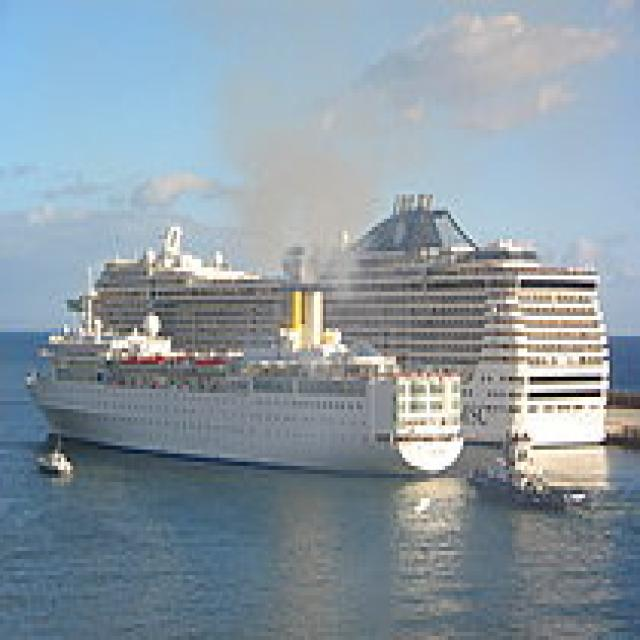Cruise: (19, 219, 464, 474), (278, 187, 610, 446)
